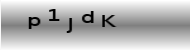1: (47, 8, 59, 21)
J: (65, 17, 72, 33)
K: (101, 14, 116, 27)
d: (81, 10, 94, 23)
p: (27, 16, 40, 29)
